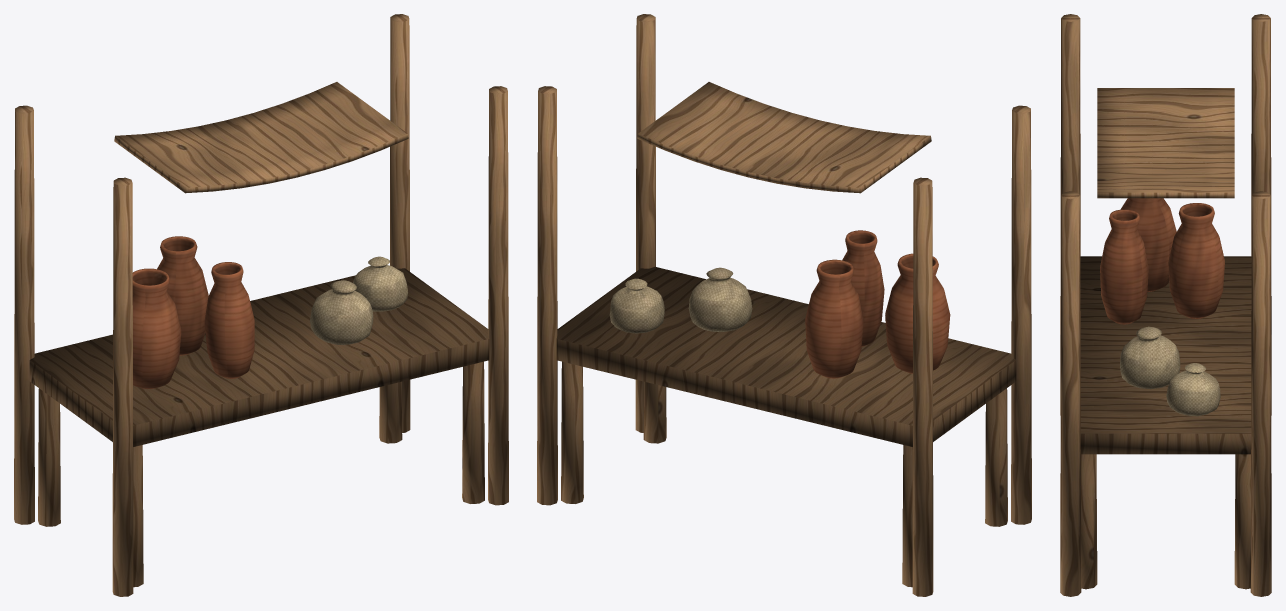
The model's file is p_stall.glb.
3 views of the same model, side by side, from view 1: azimuth 30°, elevation 25°; view 2: azimuth 150°, elevation 25°; view 3: azimuth 270°, elevation 25° (orthographic). The views are drawn at different scales.
Parts seen in each view (by area): view 1: stall; view 2: stall; view 3: stall.
Part boxes in pixels (left/top/right/bottom): stall: left=14, top=14, right=508, bottom=596; stall: left=537, top=14, right=1031, bottom=596; stall: left=1060, top=14, right=1271, bottom=596.
Size of the model in its own units: 2.31 by 2.3 by 1.11.
3 materials, 3 textured.
